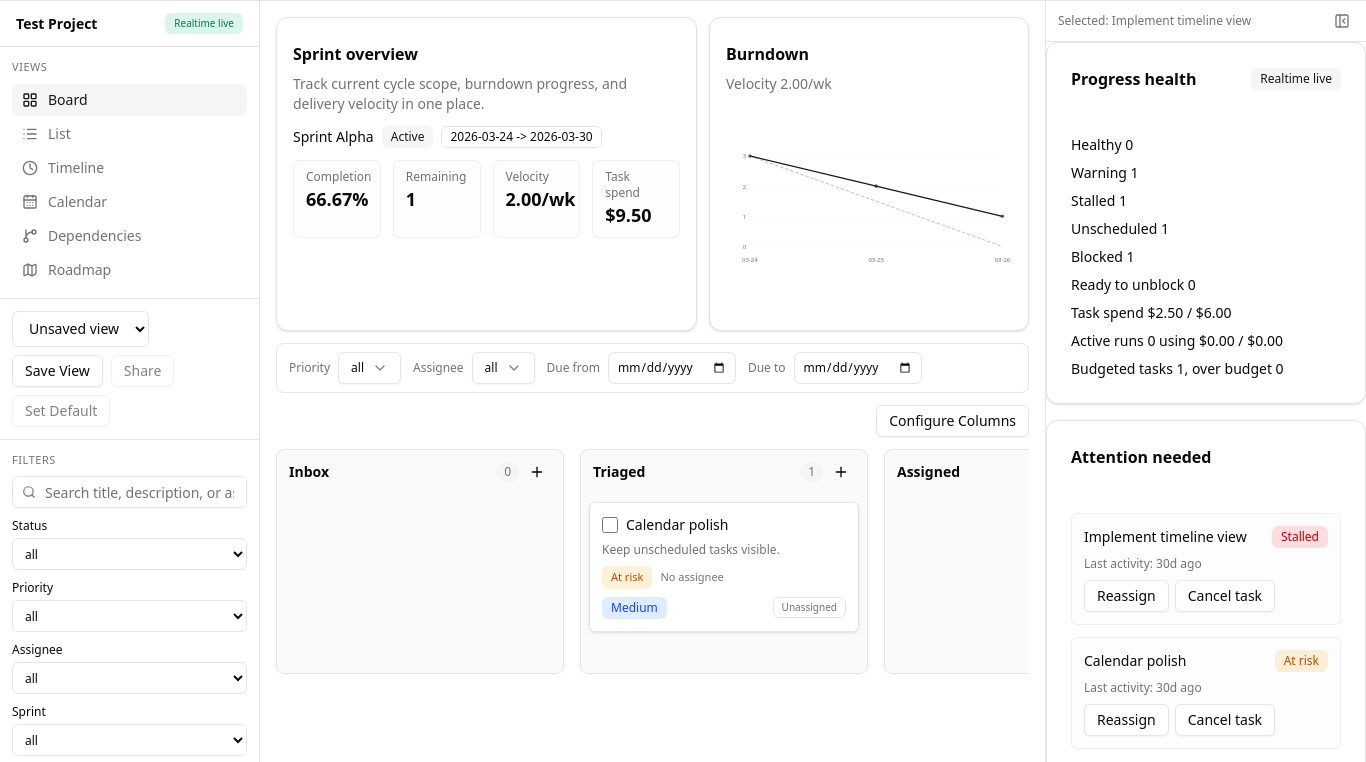
Scenario: ProjectTaskWorkspace › marks the selected task consistently across board, list, and timeline views
Click the button "List" at (130, 134), box [12,118,247,150]
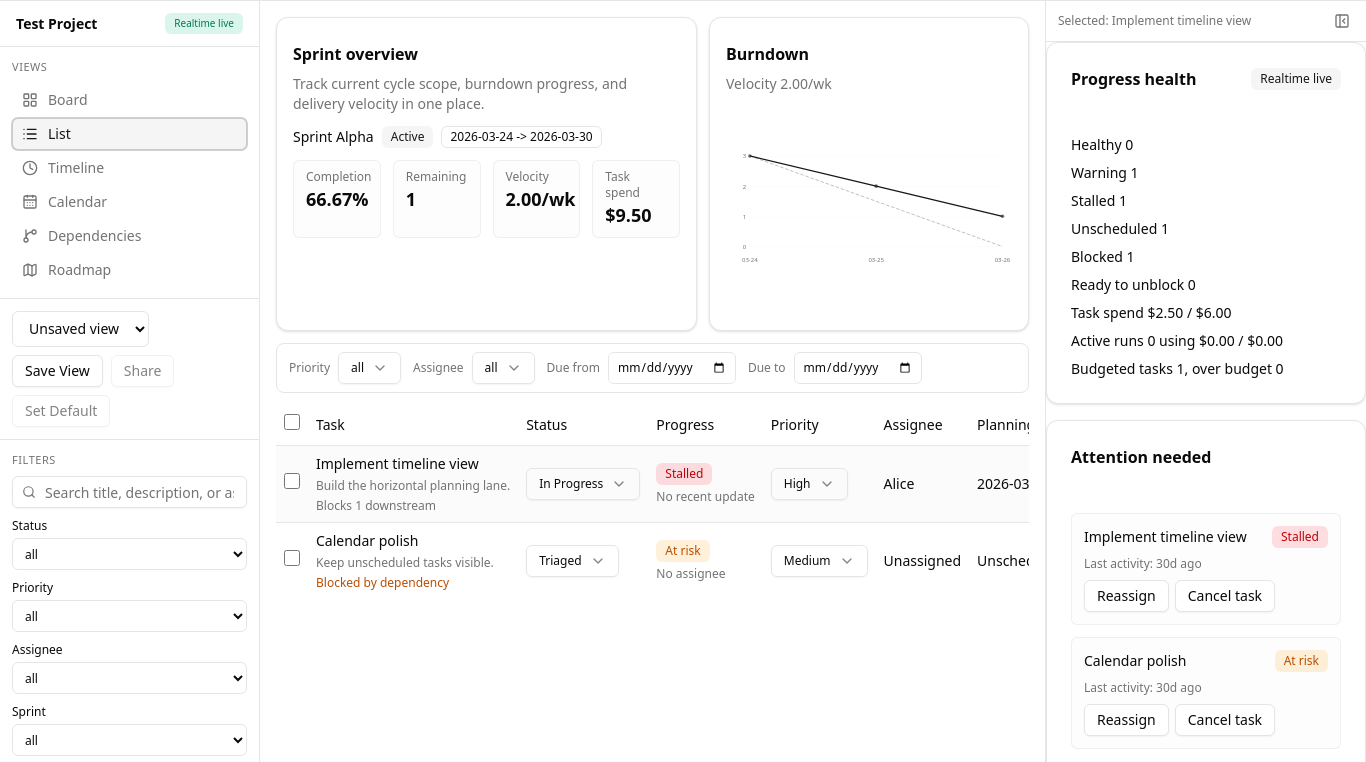
Now the row that starts with "Implement timeline view" is shown, box [276,445,1029,522]
Click the button "Timeline" at (130, 168), box [12,152,247,184]
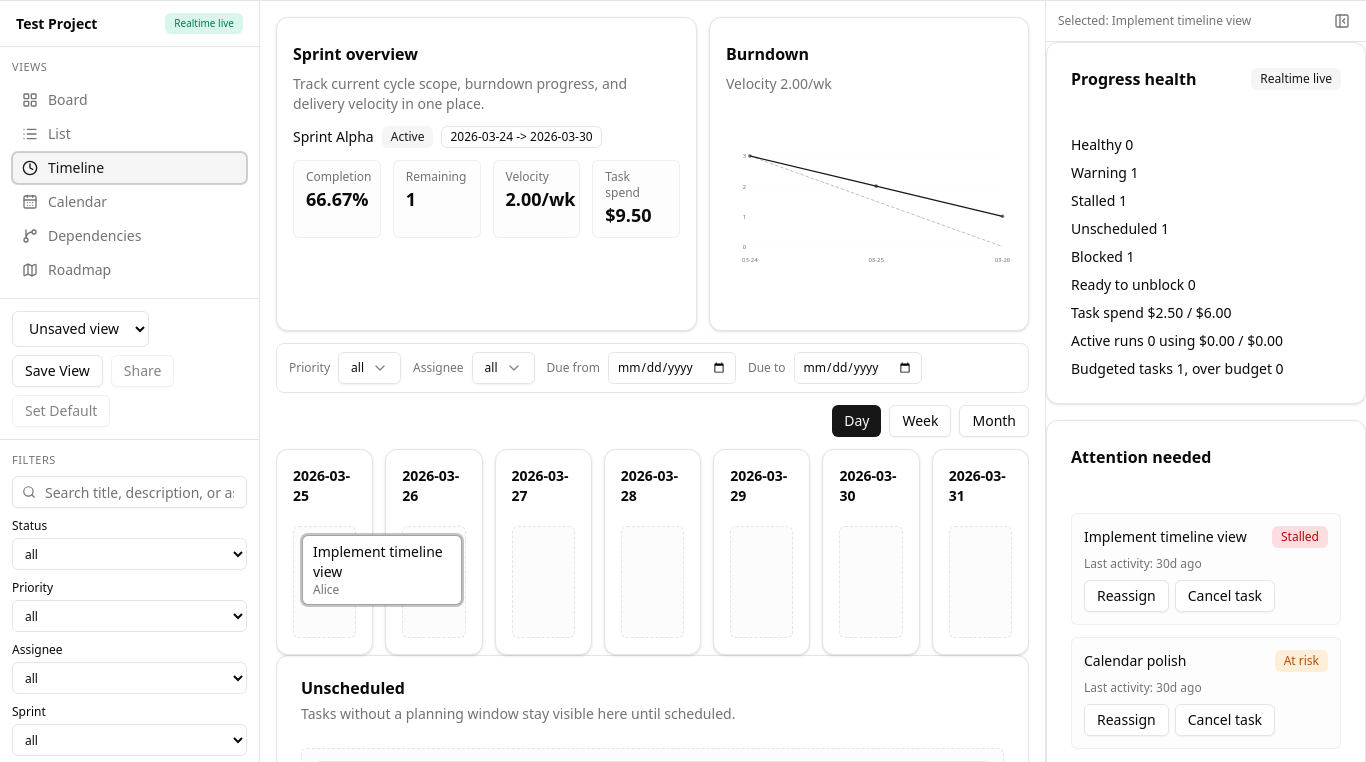
Now the button "Implement timeline view Alice" is shown, box [302,535,462,605]
